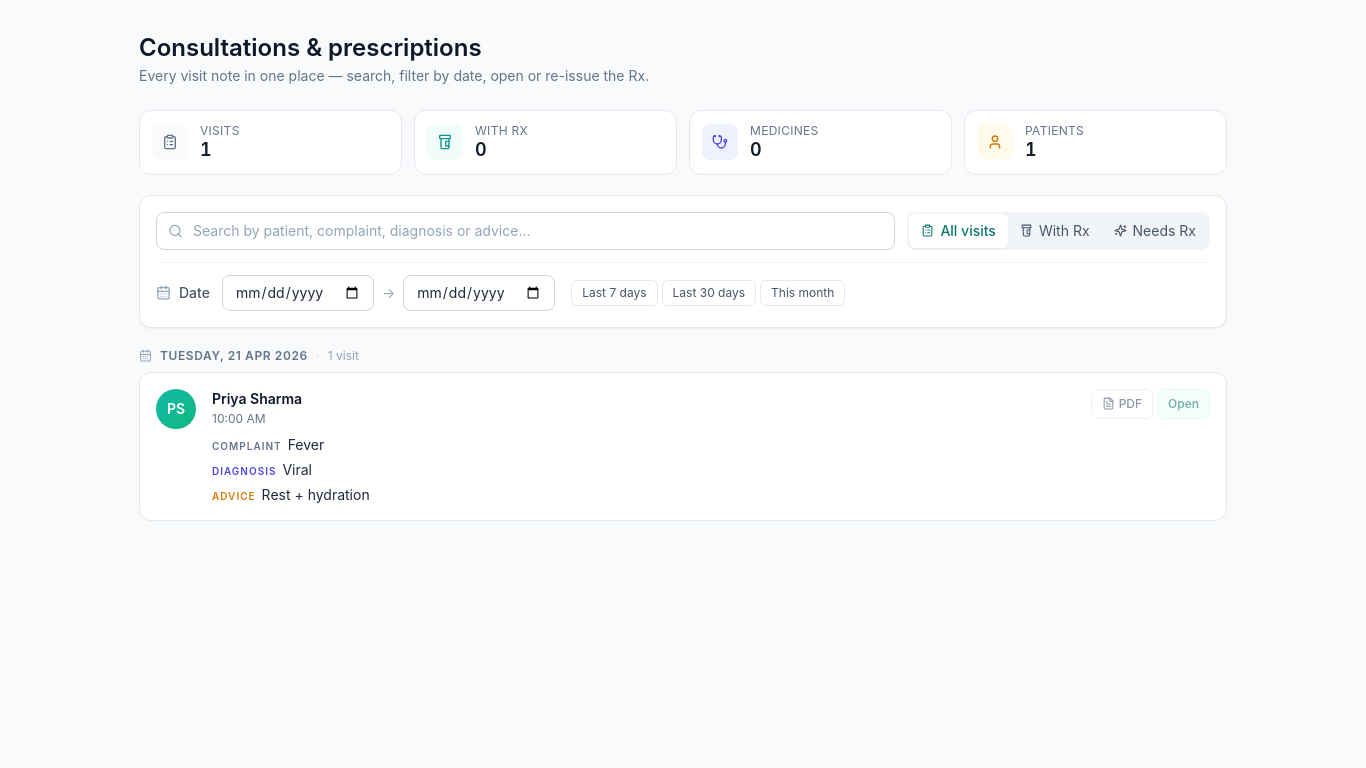
Consultations page › opens the editor modal when the Open button is clicked
Expected: the link "Priya Sharma" is shown, x1=212 y1=388 x2=302 y2=408
Click the button "Open": (1184, 404) x1=1157 y1=388 x2=1210 y2=418
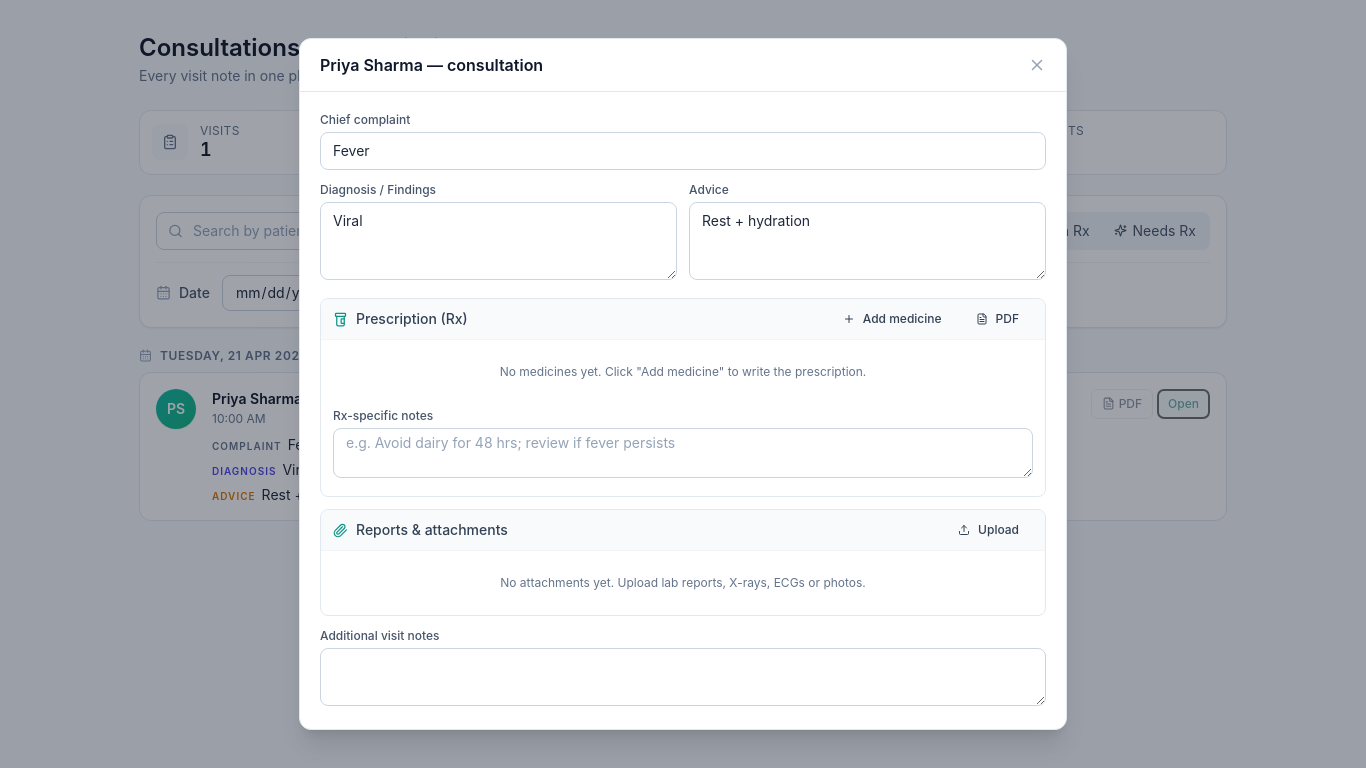
Result: the heading "Priya Sharma — consultation" is shown at x1=320 y1=53 x2=543 y2=77
Result: the text "Chief complaint" is shown at x1=320 y1=112 x2=410 y2=127
